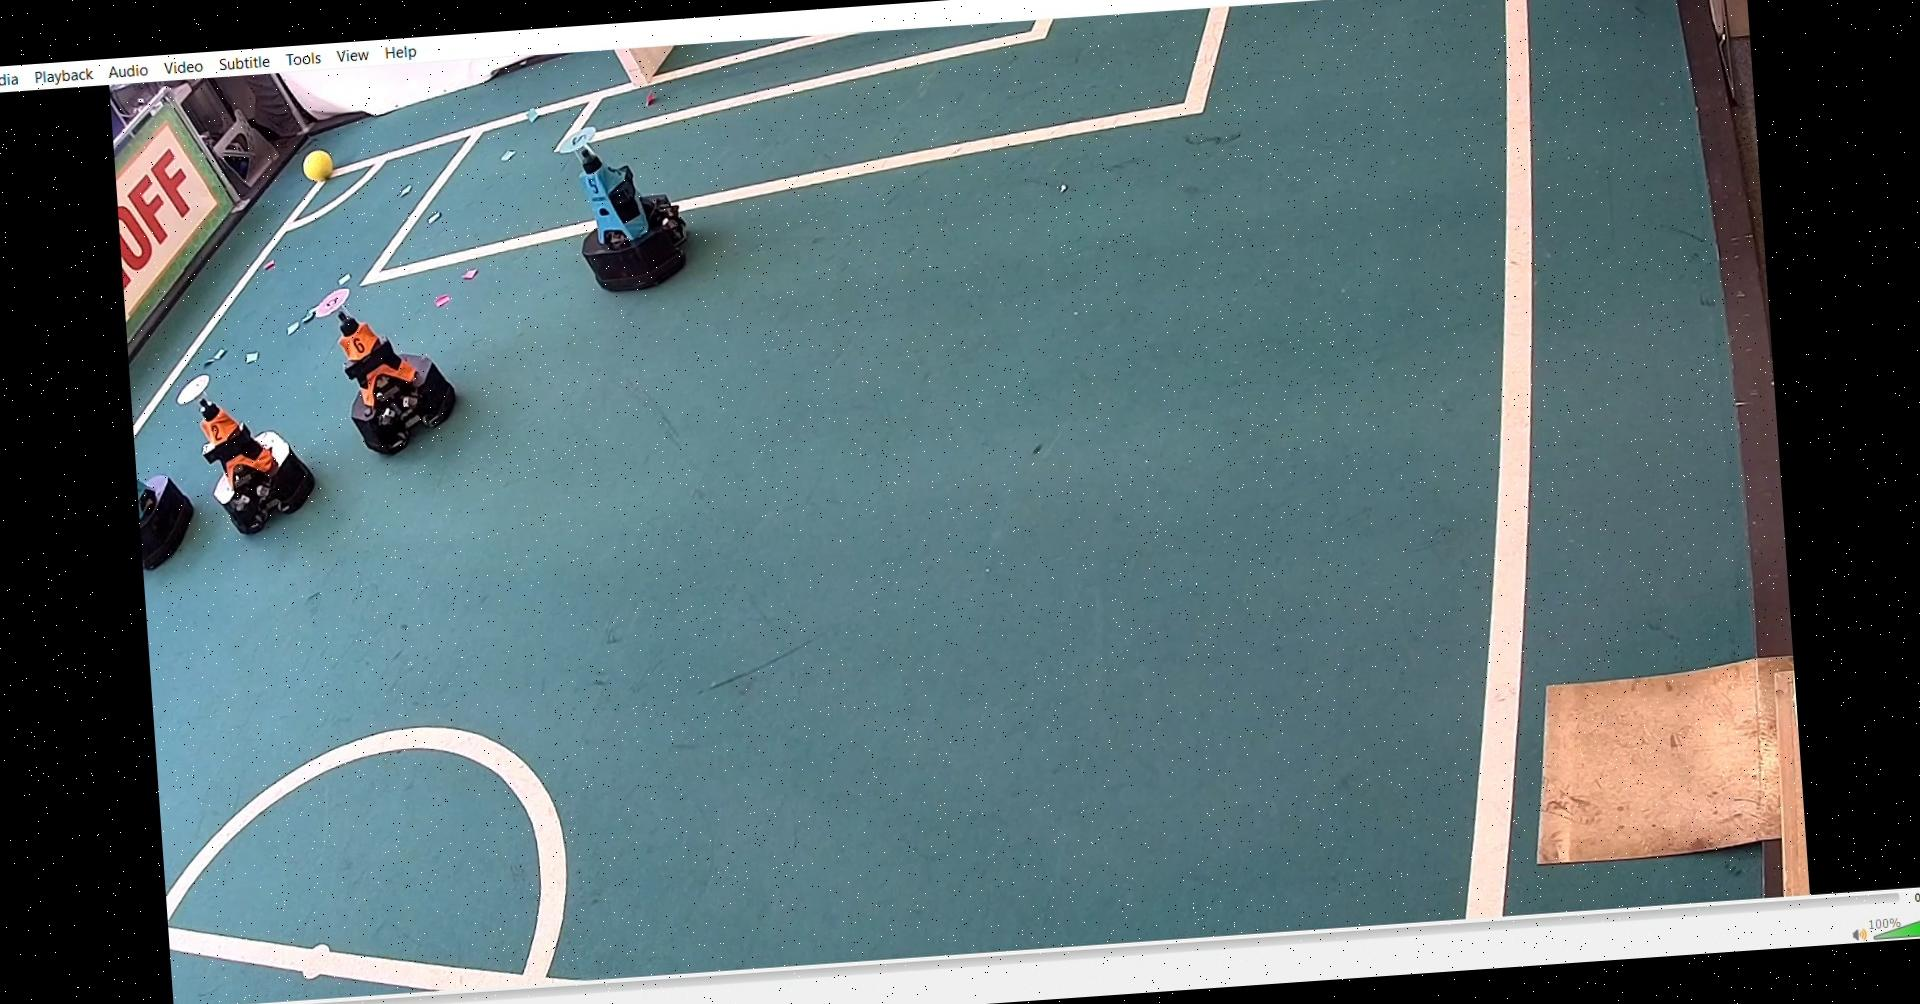Ball: (309, 146, 345, 180)
Team_Blue: (554, 108, 705, 298)
Team_Red: (306, 270, 463, 459), (170, 360, 321, 539)
